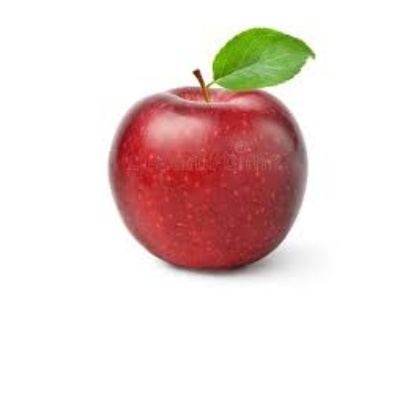tao: (109, 74, 310, 275)
